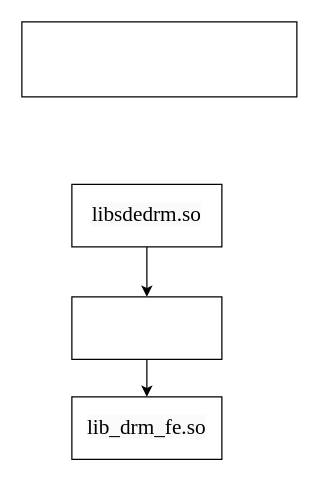
This 319x481 diagram has some shape labels left out. The shapes that lost their labels are listed below. From the top down, each one's centre as x and y in pixels, then its label:
the point at 159,59: hwcomposer.msmnile.so
the point at 146,327: libdrm.so
